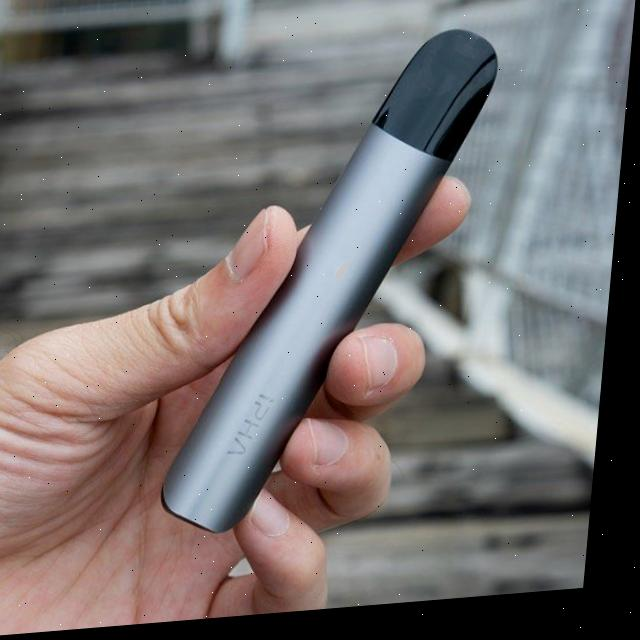vape: (165, 31, 508, 543)
